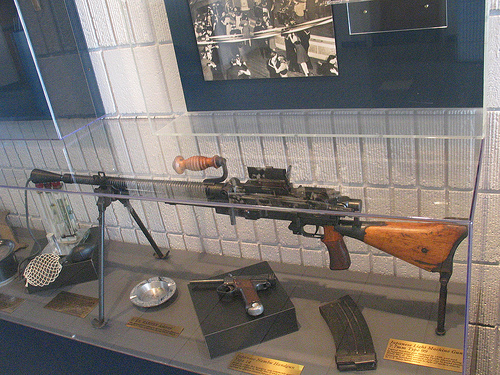rifle: (37, 155, 482, 297)
